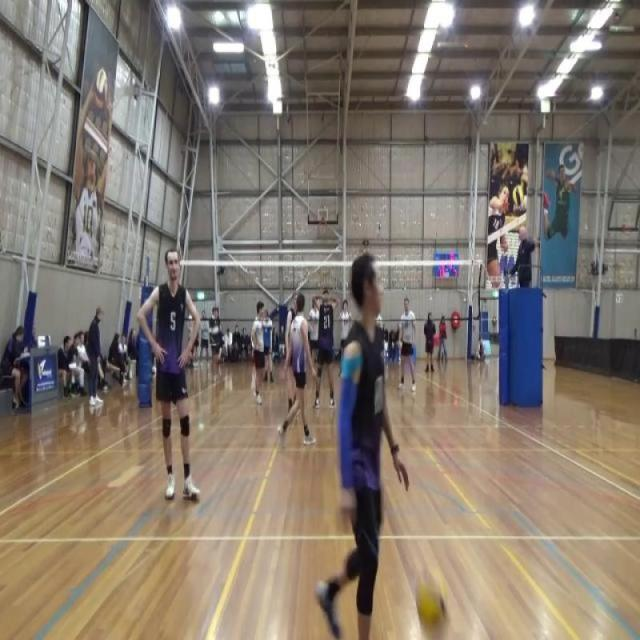volleyball: (412, 572, 447, 636), (94, 67, 108, 110), (512, 184, 525, 207)
